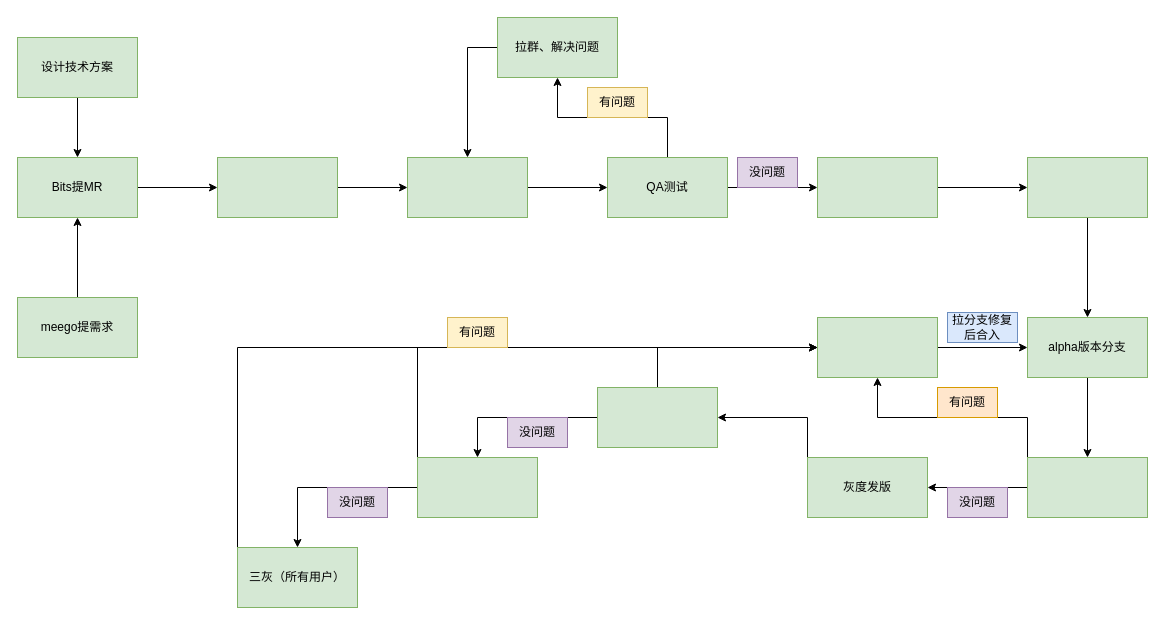
Some shapes in this 1165 by 625 pixel diagram are drawn without their labels. The shapes that lost their labels are listed below. From the top down, each one's centre as x and y in pixels, then its label:
[277,187]: 周三需求评审
[467,187]: 开发、出包
[877,187]: 合入主干
[1087,187]: 周四封板
[877,347]: 提MR修复问题
[657,417]: 一灰（部分用户）
[477,487]: 二灰（部分用户）
[1087,487]: QA集成测试
